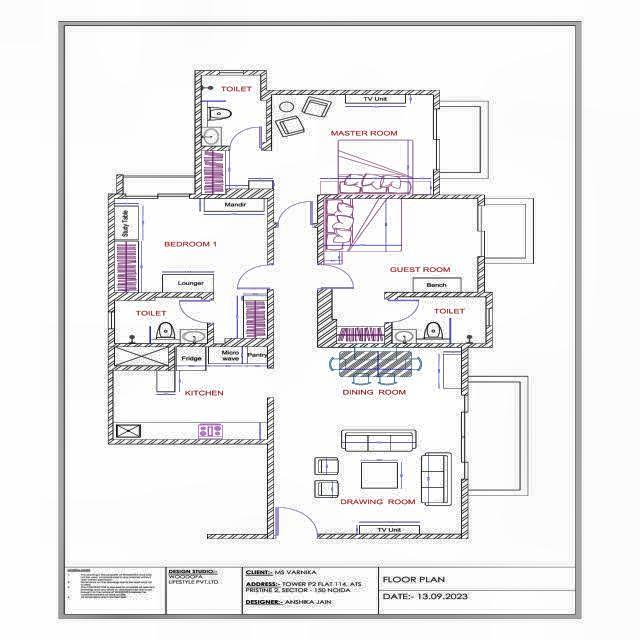room: (275, 404, 460, 533), (202, 95, 435, 195), (112, 347, 265, 438), (325, 199, 476, 290), (116, 199, 265, 290), (275, 347, 460, 401), (471, 384, 518, 489), (202, 75, 267, 144), (395, 297, 484, 341), (117, 301, 206, 343), (438, 107, 480, 171), (216, 293, 267, 338), (336, 295, 383, 342), (487, 206, 524, 256)
